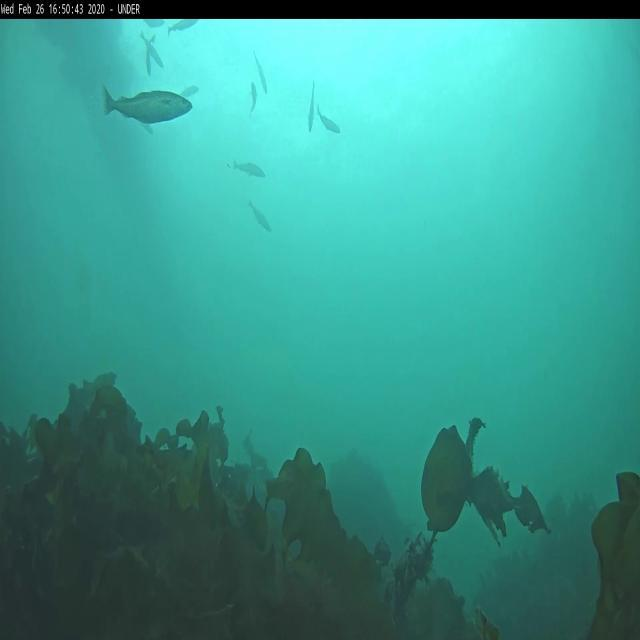fish: (103, 87, 191, 132), (247, 198, 275, 234), (142, 35, 164, 69), (252, 50, 269, 93), (167, 16, 202, 36), (318, 109, 342, 136), (230, 160, 270, 174), (307, 84, 316, 134), (250, 82, 258, 116), (144, 18, 165, 30), (186, 84, 198, 94)
